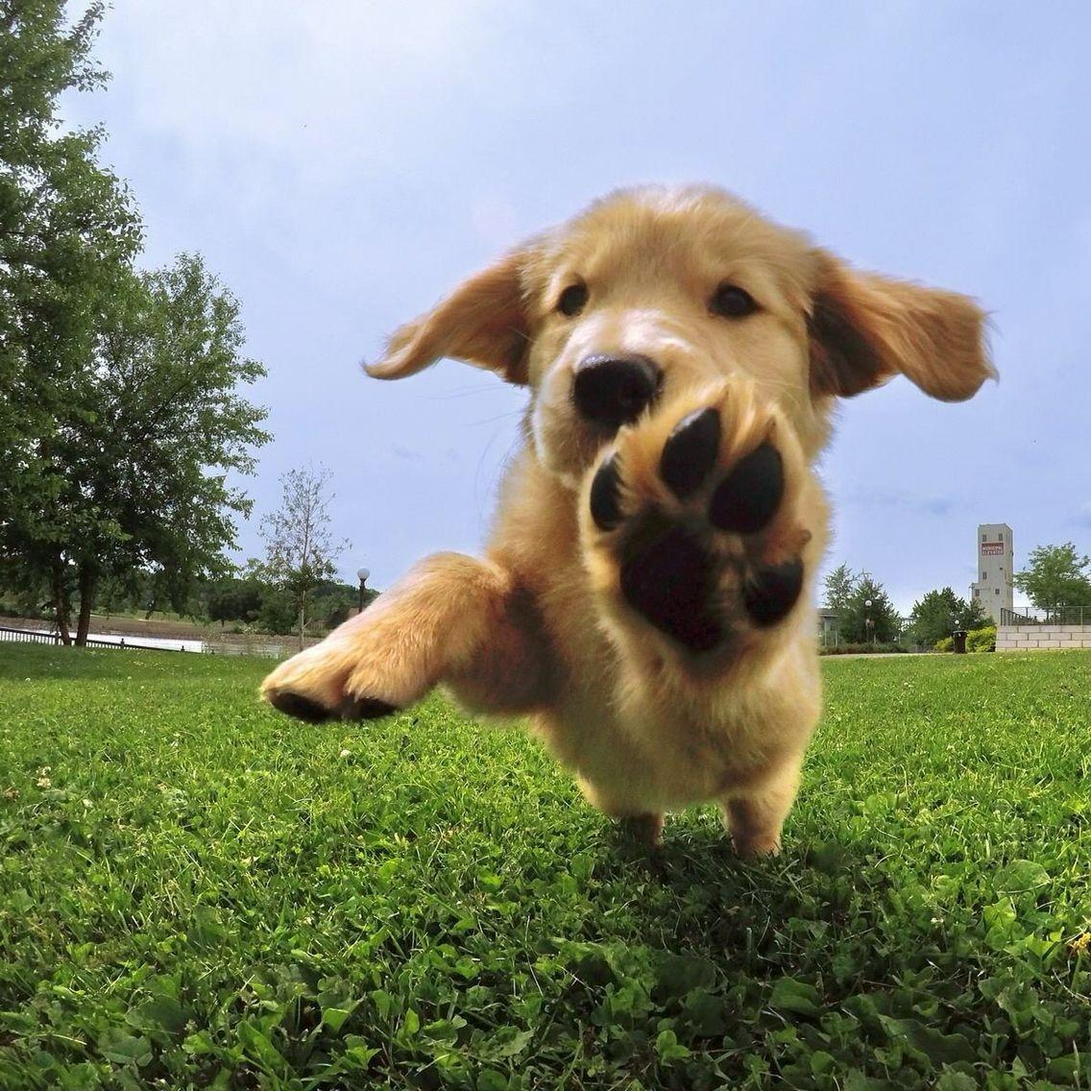puppy-dog: (258, 183, 1005, 865)
